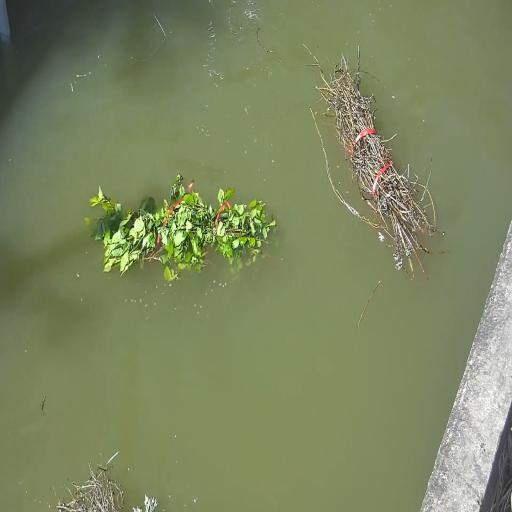twig: (310, 53, 437, 274), (90, 173, 276, 282), (57, 452, 123, 512)
